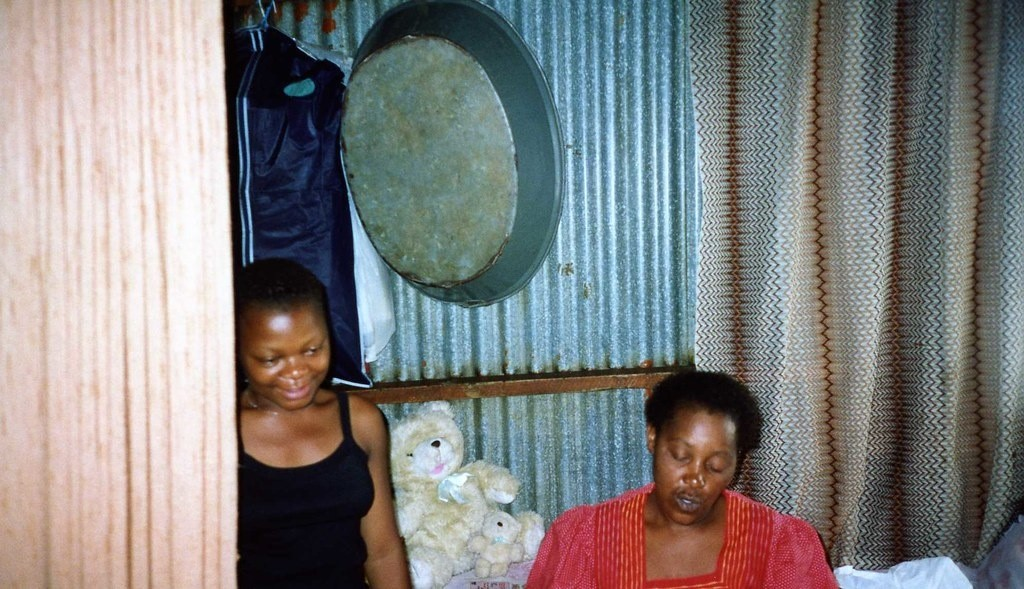face_no_mask: (647, 370, 752, 527), (235, 257, 332, 410)
